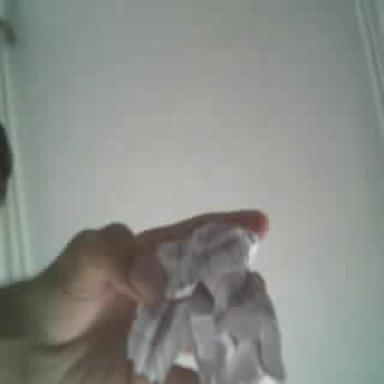paper: (128, 226, 284, 382)
